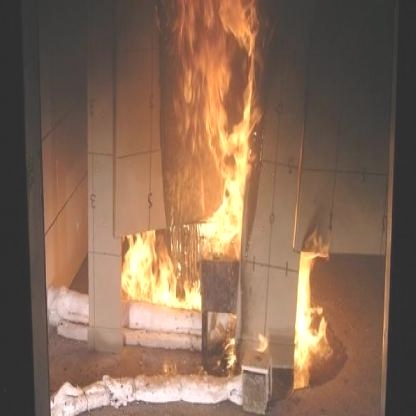fire: (90, 0, 288, 327), (256, 203, 333, 398)
